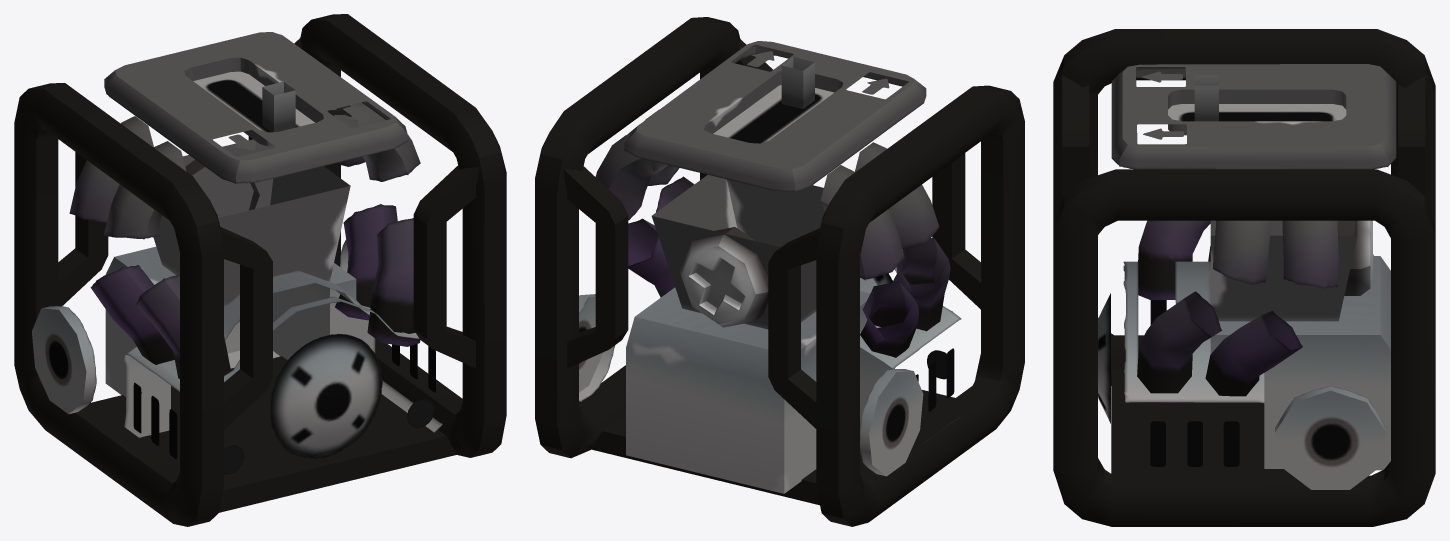
The model's file is obj_interactive_gasengine_02_on.fbx.
3 views of the same model, side by side, from view 1: azimuth 30°, elevation 25°; view 2: azimuth 150°, elevation 25°; view 3: azimuth 270°, elevation 25° (orthographic). The views are drawn at different scales.
Parts seen in each view (by area): view 1: obj_interactive_gasengine_02_on; view 2: obj_interactive_gasengine_02_on; view 3: obj_interactive_gasengine_02_on.
Part boxes in pixels (<box>): obj_interactive_gasengine_02_on: <box>14,14,506,526</box>; obj_interactive_gasengine_02_on: <box>535,17,1024,526</box>; obj_interactive_gasengine_02_on: <box>1053,29,1435,526</box>.
Size of the model in its own units: 2.05 by 2.4 by 2.04.
